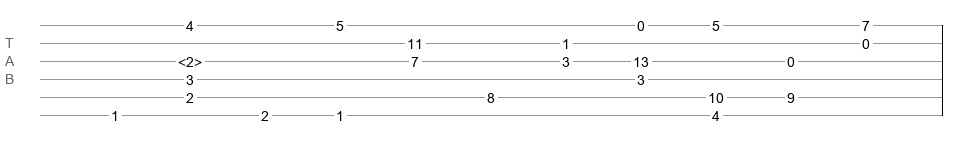0: (637, 18, 645, 28), (787, 54, 795, 64), (862, 36, 870, 46)
1: (111, 108, 119, 118), (336, 108, 344, 118), (562, 36, 570, 46)
10: (708, 90, 724, 100)
11: (407, 36, 423, 46)
13: (633, 54, 649, 64)
2: (186, 90, 194, 100), (261, 108, 269, 118)
3: (186, 72, 194, 82), (562, 54, 570, 64), (637, 72, 645, 82)
4: (186, 18, 194, 28), (712, 108, 720, 118)
5: (336, 18, 344, 28), (712, 18, 720, 28)
7: (411, 54, 419, 64), (862, 18, 870, 28)
8: (487, 90, 495, 100)
9: (787, 90, 795, 100)
harmonic: (178, 54, 202, 64)
